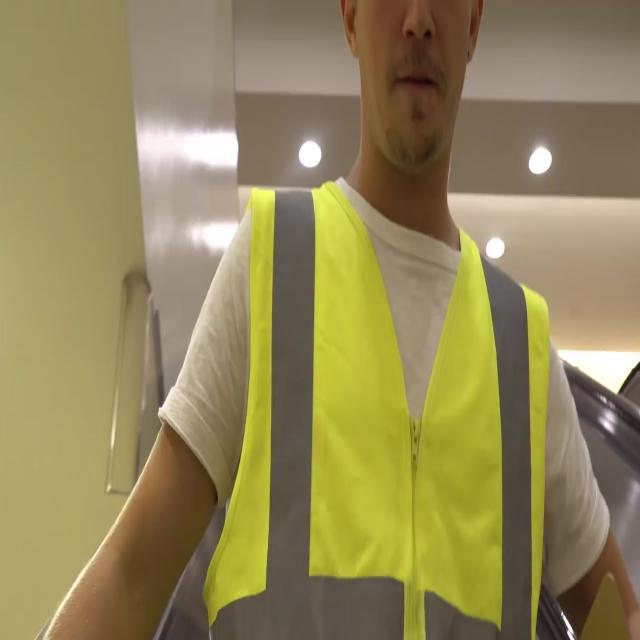Reflective-Jacket: (201, 188, 561, 630)
